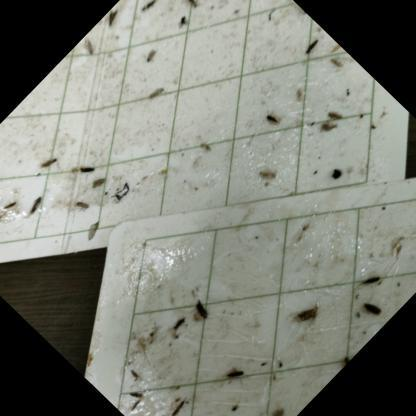prays_oleae: (186, 288, 222, 324), (250, 158, 284, 191), (255, 107, 288, 140), (78, 212, 109, 244), (358, 292, 388, 322), (220, 362, 250, 392), (96, 6, 126, 36), (72, 33, 102, 63), (316, 102, 346, 132), (140, 82, 170, 112), (356, 264, 385, 293), (67, 191, 96, 220), (296, 34, 324, 64), (138, 42, 164, 68), (162, 395, 193, 416), (70, 159, 96, 184), (86, 170, 111, 196), (312, 117, 336, 141), (170, 12, 194, 36), (26, 192, 50, 215), (258, 401, 290, 416), (36, 157, 56, 178), (178, 0, 206, 15), (0, 206, 10, 242), (293, 4, 309, 20)
